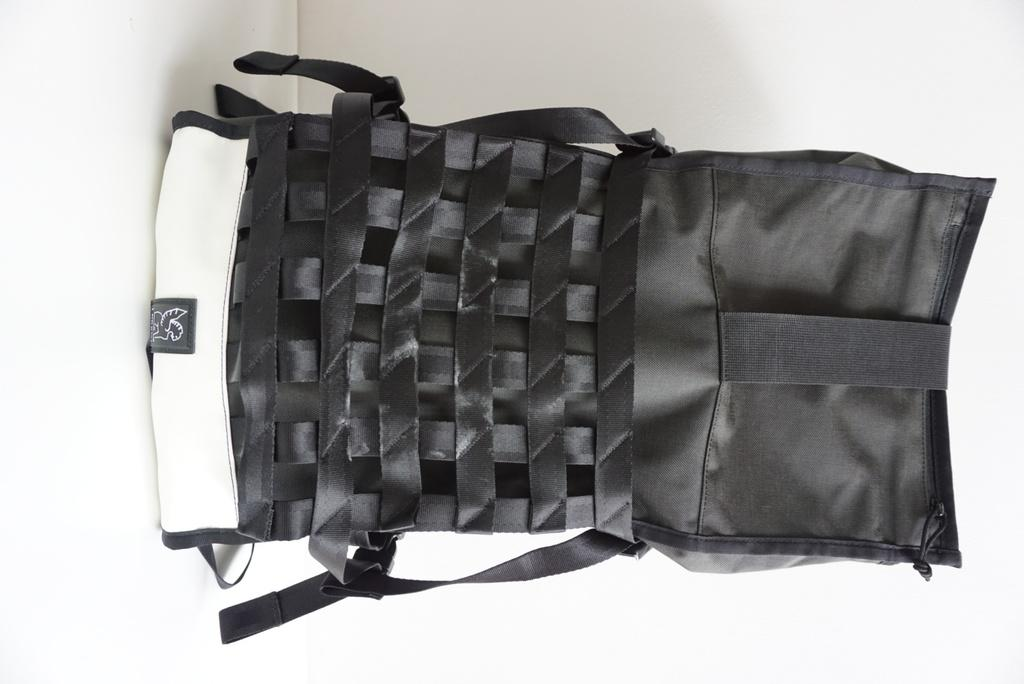Luggage-and-bags: (143, 49, 996, 647)
